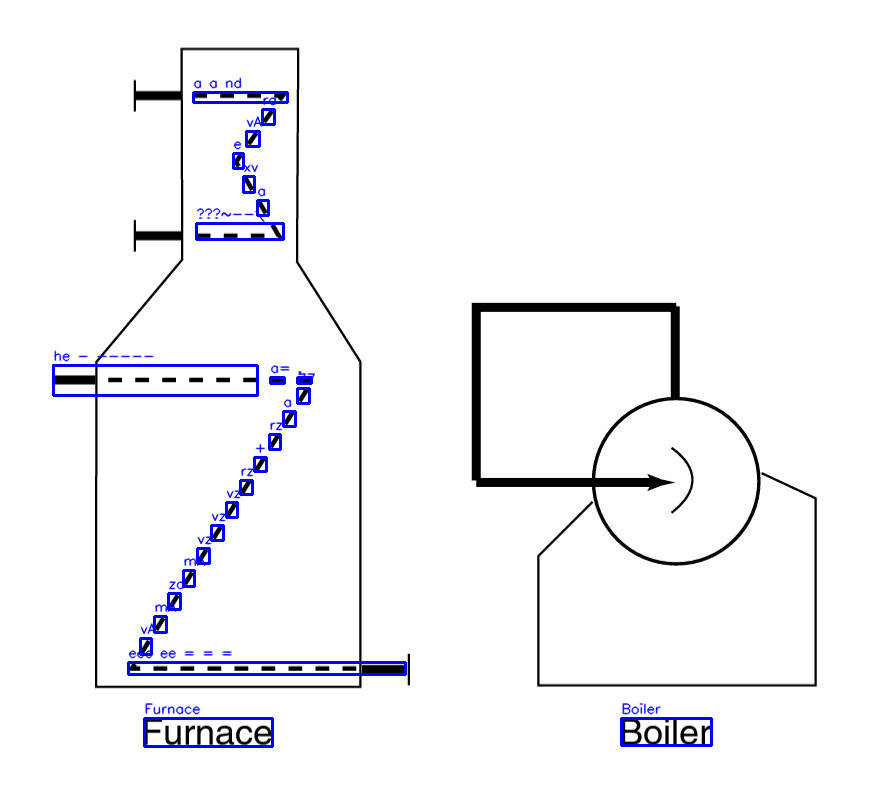Caldeira: (462, 288, 829, 701)
Forno: (39, 37, 422, 704)
